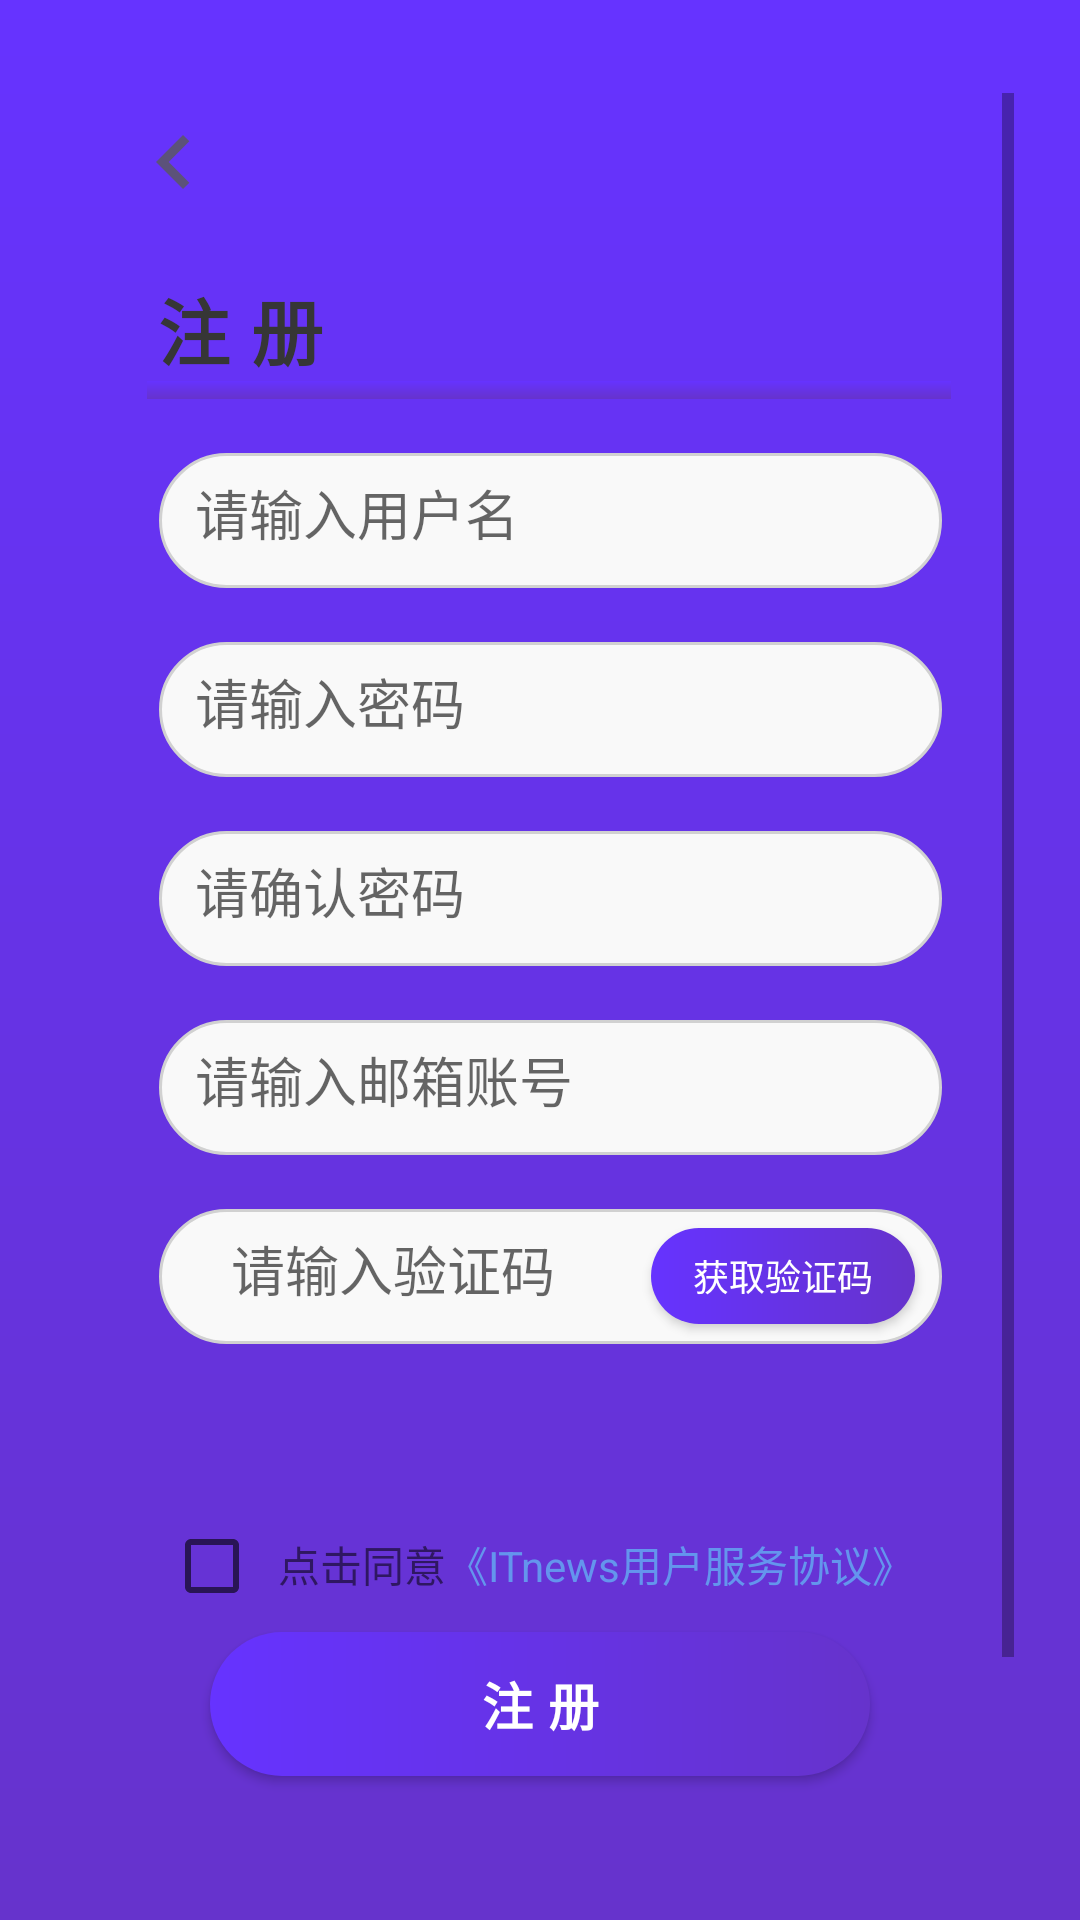

Locate icon controls on the screen. Image size 1080 × 1920, boxes as (x1, y1, x2, y2).
chevron left: (156, 135, 189, 189)
